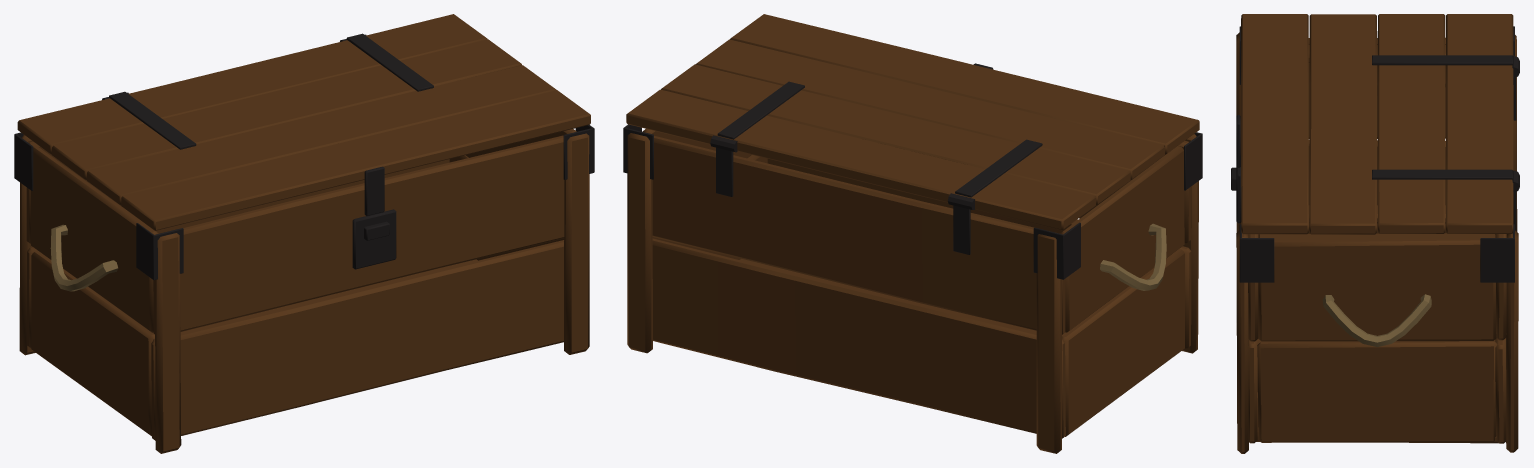
Rendered from truhe.glb.
The picture shows the model from 3 angles, left to right: view 1: azimuth 30°, elevation 25°; view 2: azimuth 150°, elevation 25°; view 3: azimuth 270°, elevation 25°; orthographic projection.
Visible parts, largest first — view 1: truhe; view 2: truhe; view 3: truhe.
Boxes of the visible parts, x1,y1,x2,y2 form: truhe: [14, 14, 594, 453]; truhe: [623, 14, 1202, 453]; truhe: [1231, 14, 1519, 453].
Size of the model in its own units: 1.03 by 0.4789 by 0.533.
